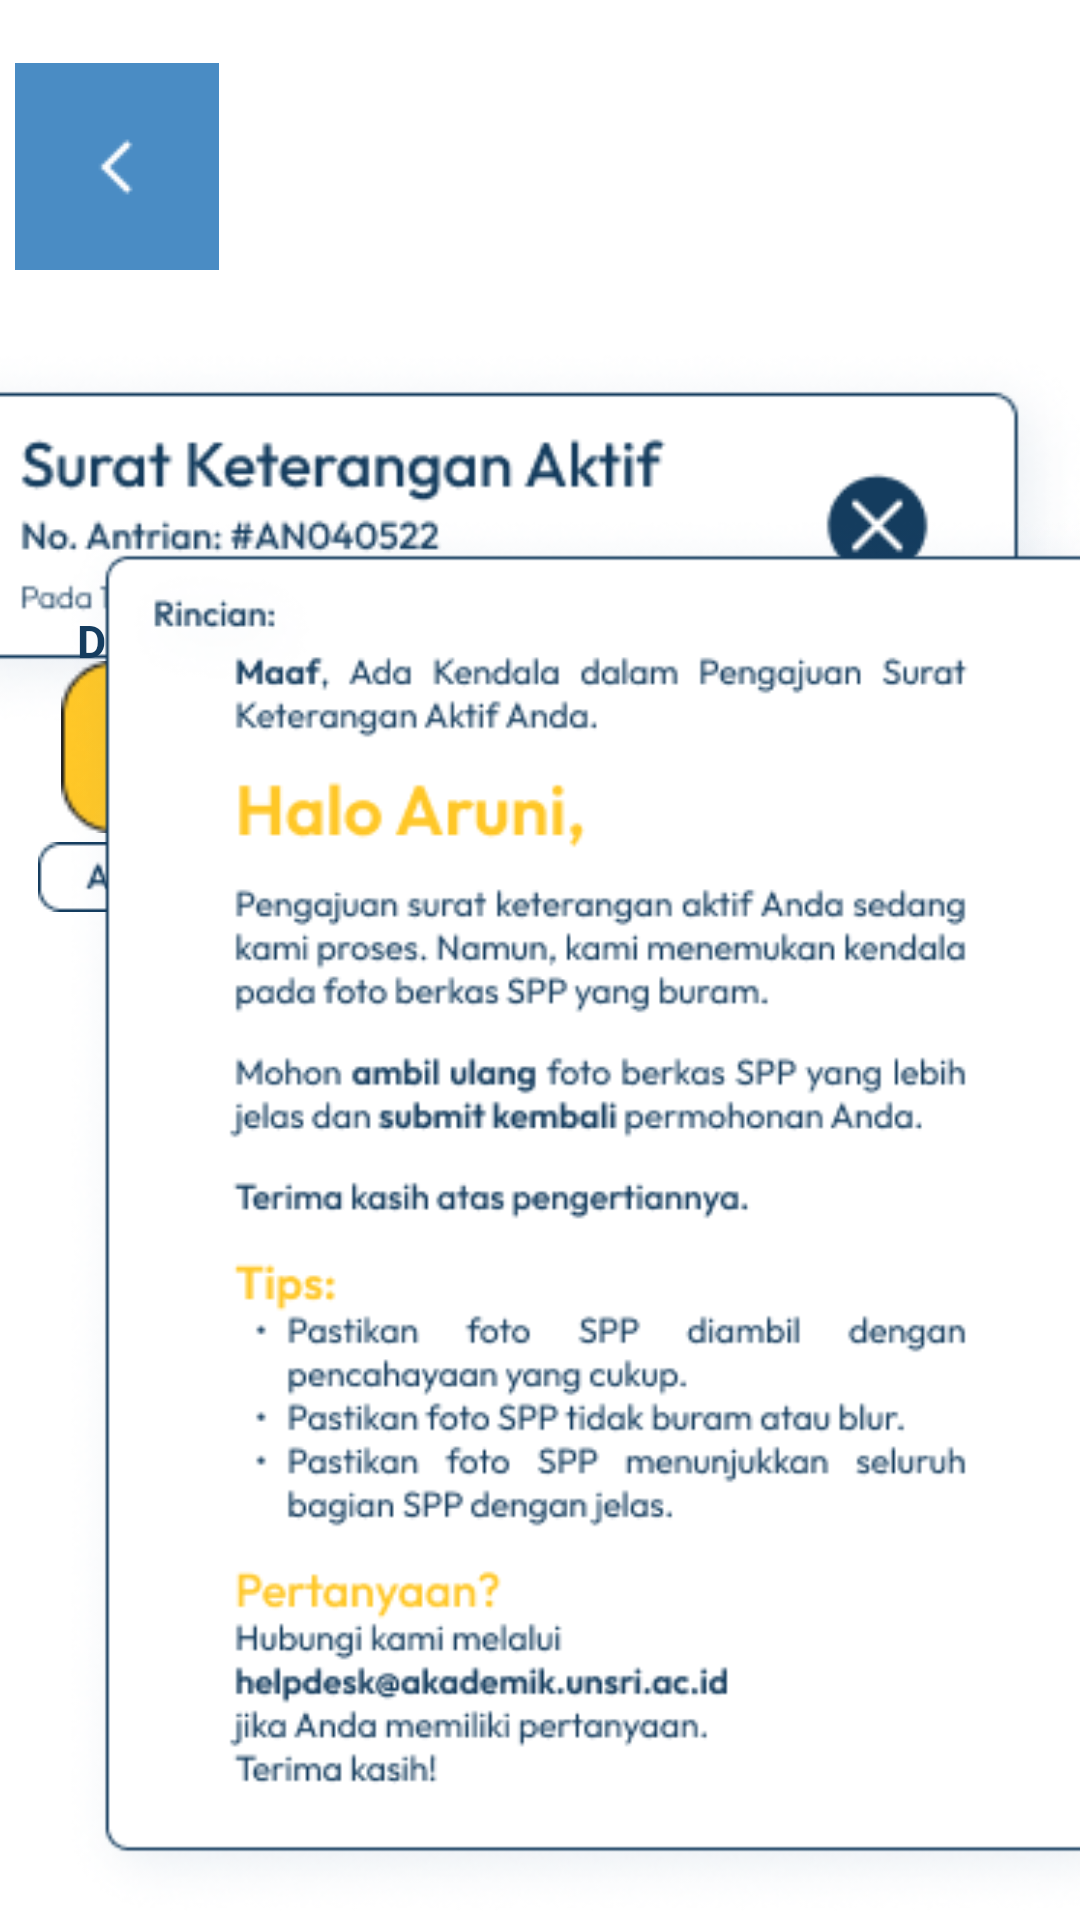

Screen size 1080 x 1920. Icon name, then its box in pixels as (x1, y1, x2, y2):
back: (15, 63, 219, 270)
